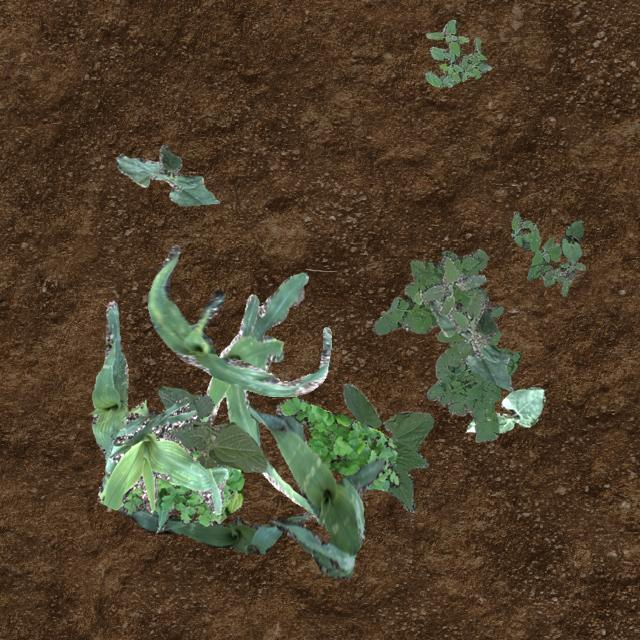crop: (199, 272, 317, 520), (146, 244, 330, 396), (248, 406, 384, 578), (96, 396, 226, 514), (342, 382, 432, 512), (118, 502, 312, 552), (157, 384, 266, 472), (428, 299, 512, 392), (114, 143, 218, 204), (90, 300, 128, 458), (466, 387, 544, 432), (560, 218, 582, 266), (212, 488, 242, 522)
weed: (372, 248, 520, 442), (276, 396, 400, 490), (121, 450, 242, 530), (414, 254, 486, 352), (510, 210, 584, 294), (424, 18, 491, 86)
